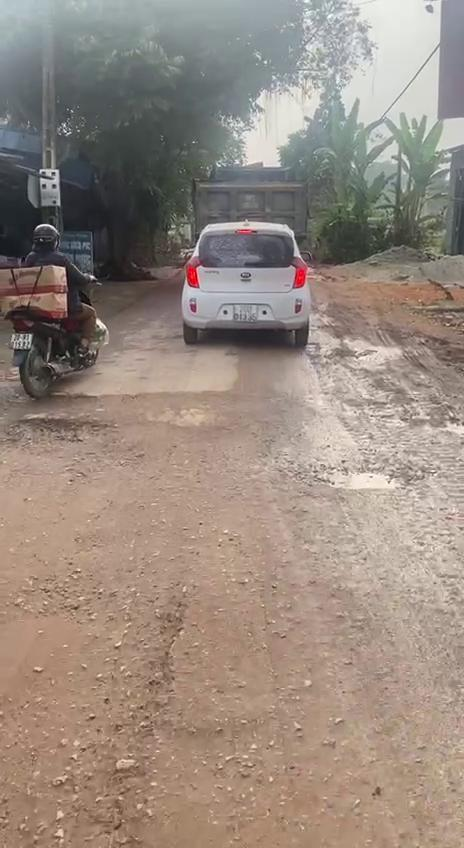pothole: (0, 566, 184, 848), (4, 410, 122, 454), (318, 462, 412, 494)
